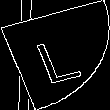L_N: (26, 26, 84, 84)
